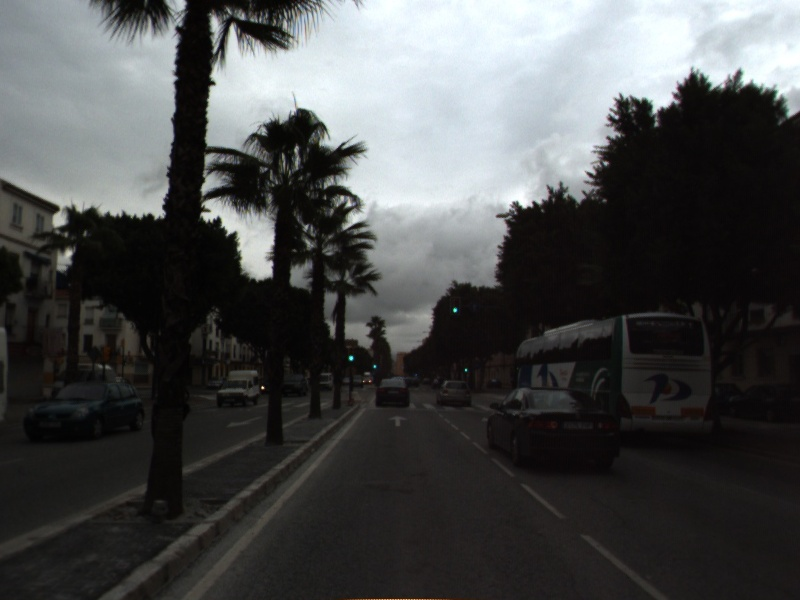STRAIGHT: (386, 413, 410, 428)
